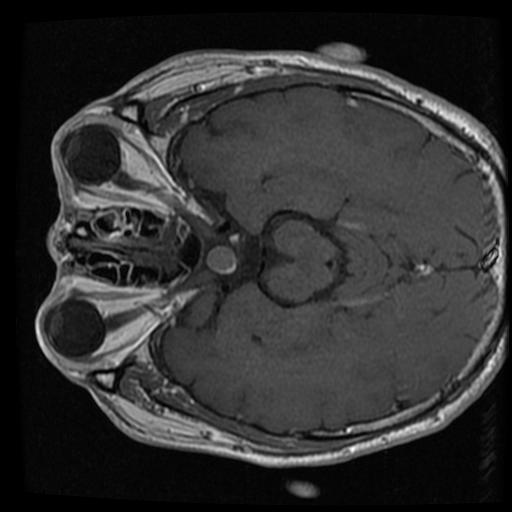pituitary tumour: (205, 246, 236, 273)
